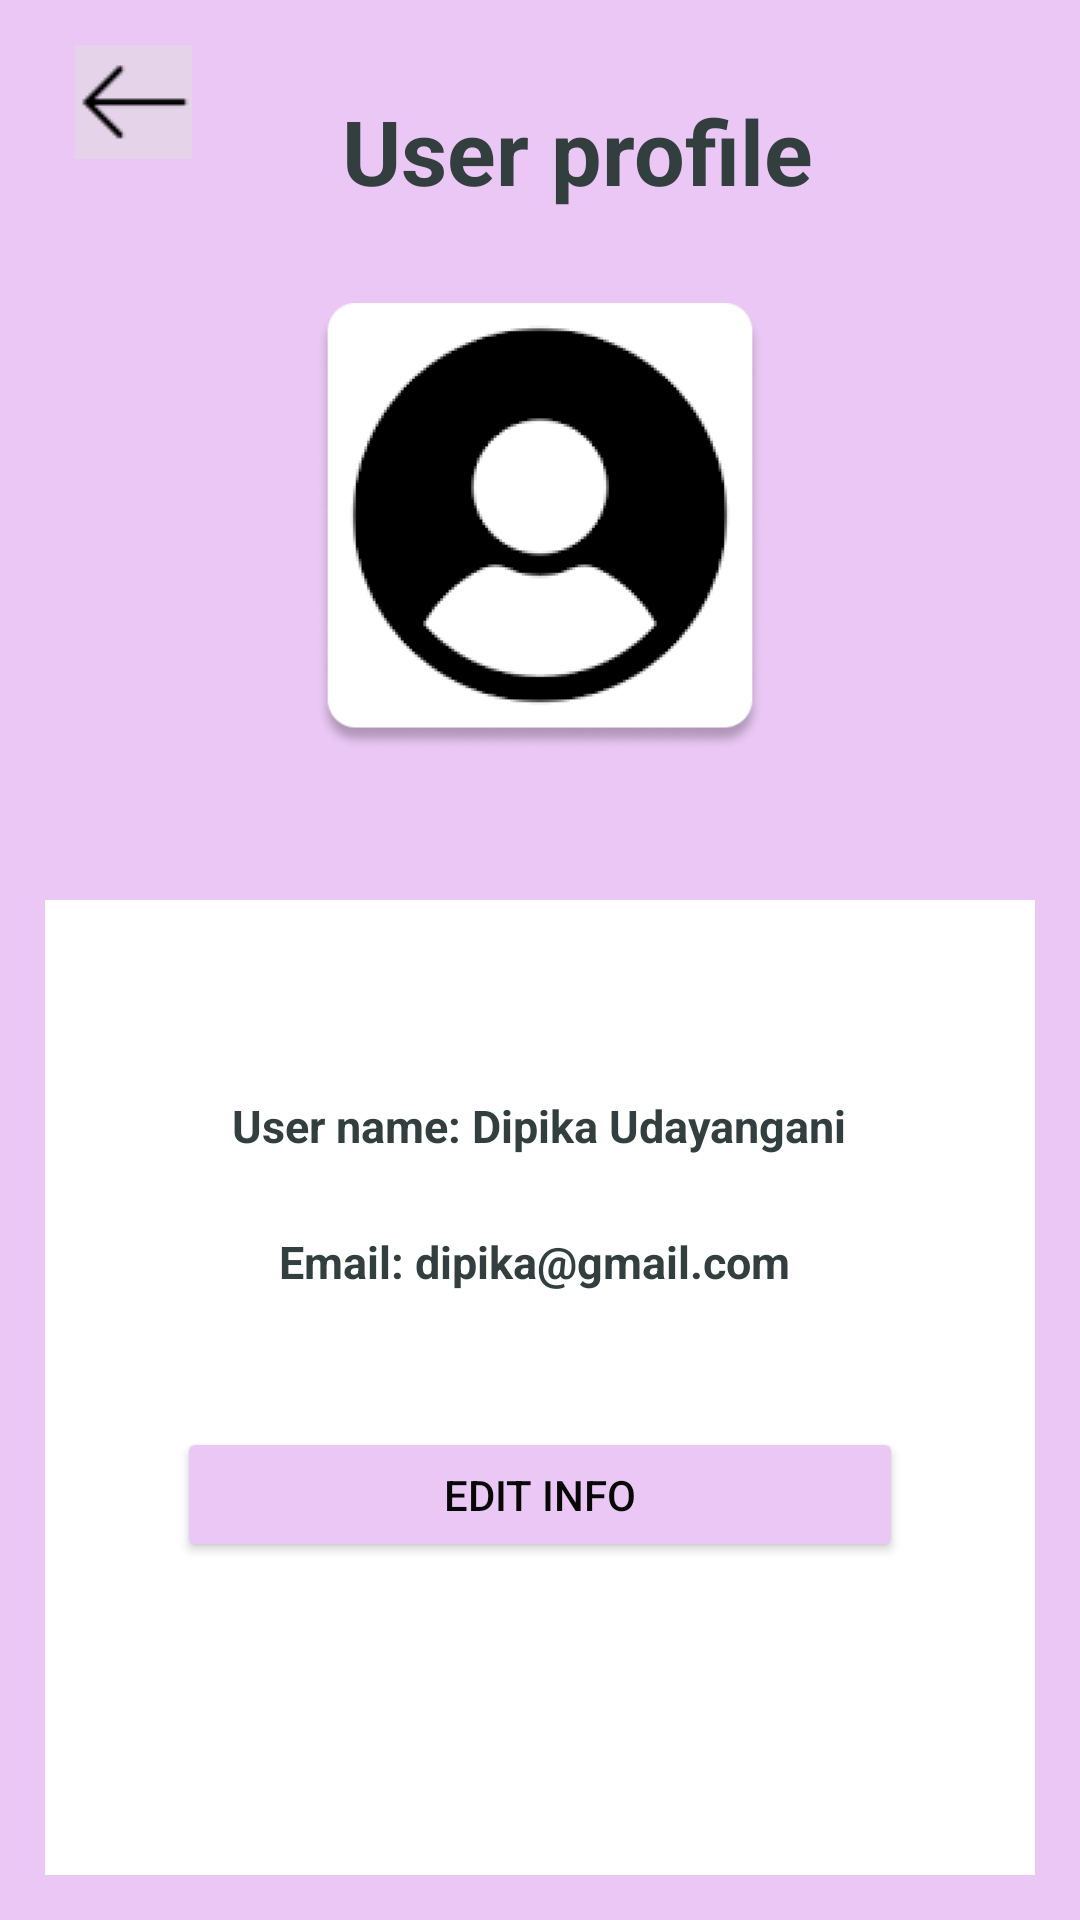

Icon bounding boxes for this 1080 x 1920 phone screenshot, format (x1, y1, x2, y2):
back: (75, 45, 192, 159)
